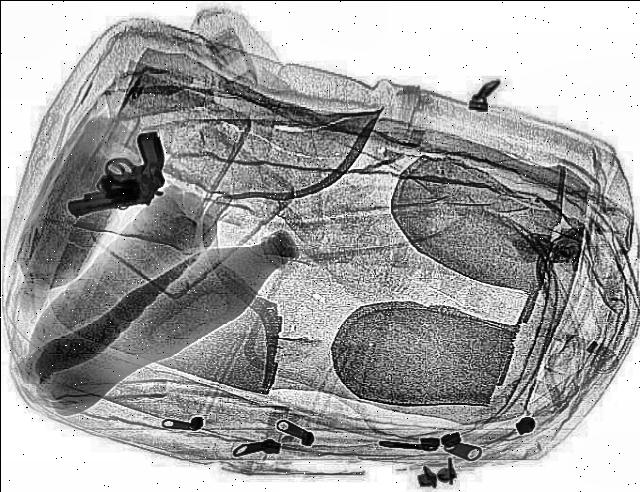Gun: (58, 118, 190, 234)
